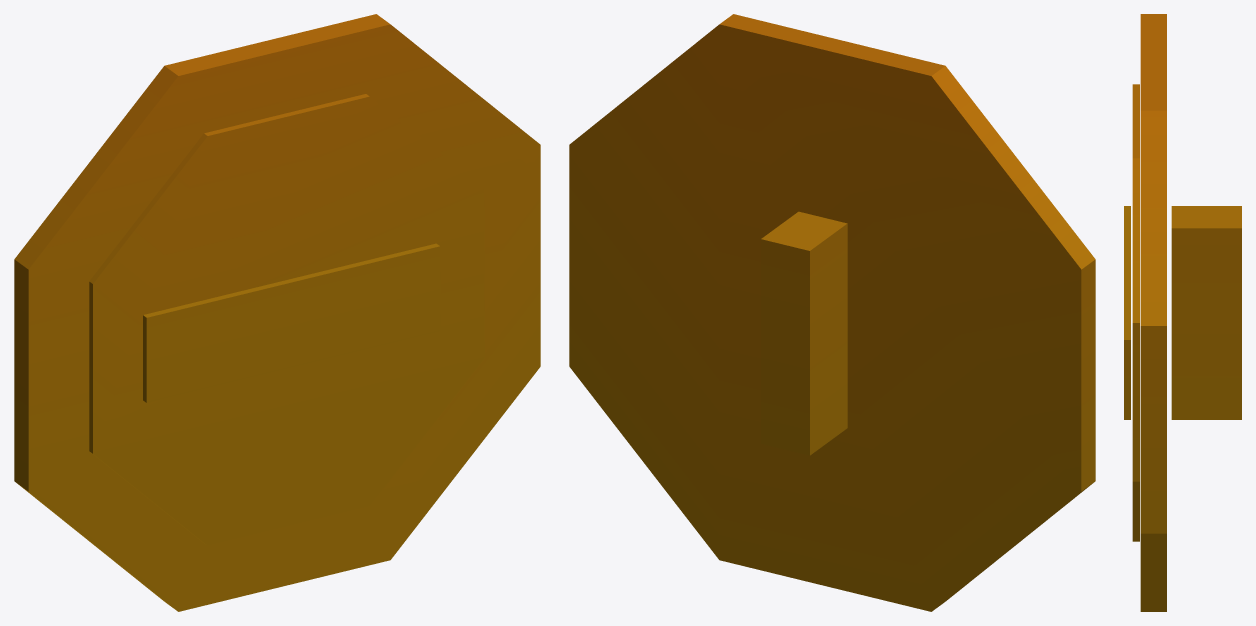
The model's file is SM_Equip_MainGauche_BouclierPanneau.fbx.
3 renders of one model, left to right at view 1: azimuth 30°, elevation 25°; view 2: azimuth 150°, elevation 25°; view 3: azimuth 270°, elevation 25°, orthographic. The views are drawn at different scales.
Visible parts, largest first — view 1: SM_Equip_MainGauche_BouclierPanneau_LOD0; view 2: SM_Equip_MainGauche_BouclierPanneau_LOD0; view 3: SM_Equip_MainGauche_BouclierPanneau_LOD0.
Part boxes in pixels (x1=…): SM_Equip_MainGauche_BouclierPanneau_LOD0: x1=14, y1=14, x2=540, y2=611; SM_Equip_MainGauche_BouclierPanneau_LOD0: x1=569, y1=14, x2=1095, y2=611; SM_Equip_MainGauche_BouclierPanneau_LOD0: x1=1124, y1=14, x2=1241, y2=611.
Size of what is drawn, in the model's own units: 0.3141 by 0.3141 by 0.067.
